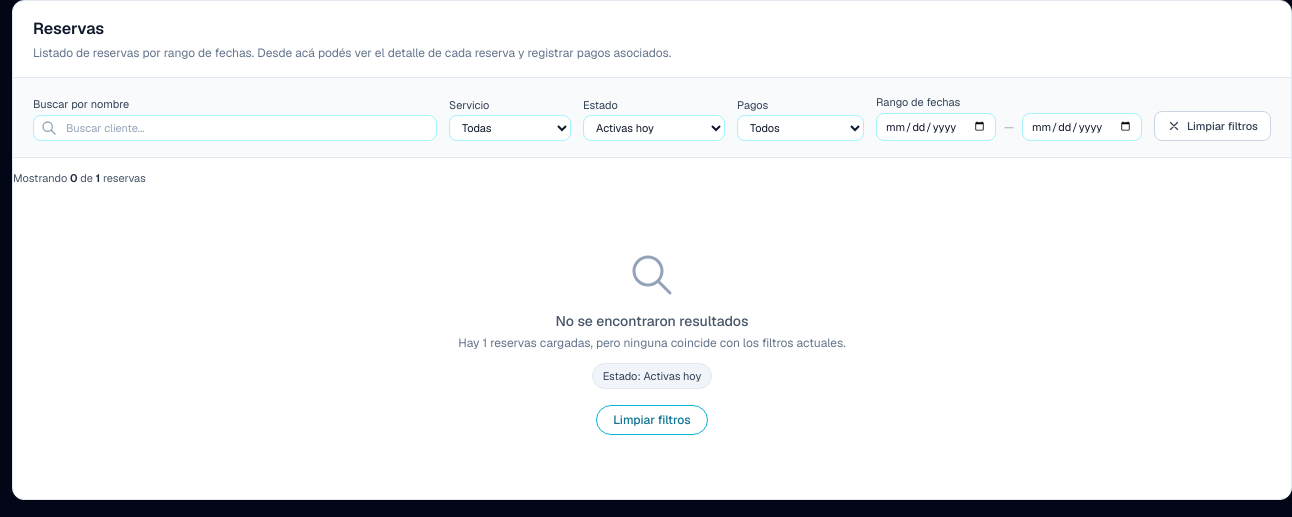
Test: ReservasSection: estado vacio por filtros › el boton del estado vacio limpia los filtros y tambien la busqueda local
Type "Zzz" into the field with placeholder "Buscar cliente...". click: [235, 128]
box: [33,114,437,141]
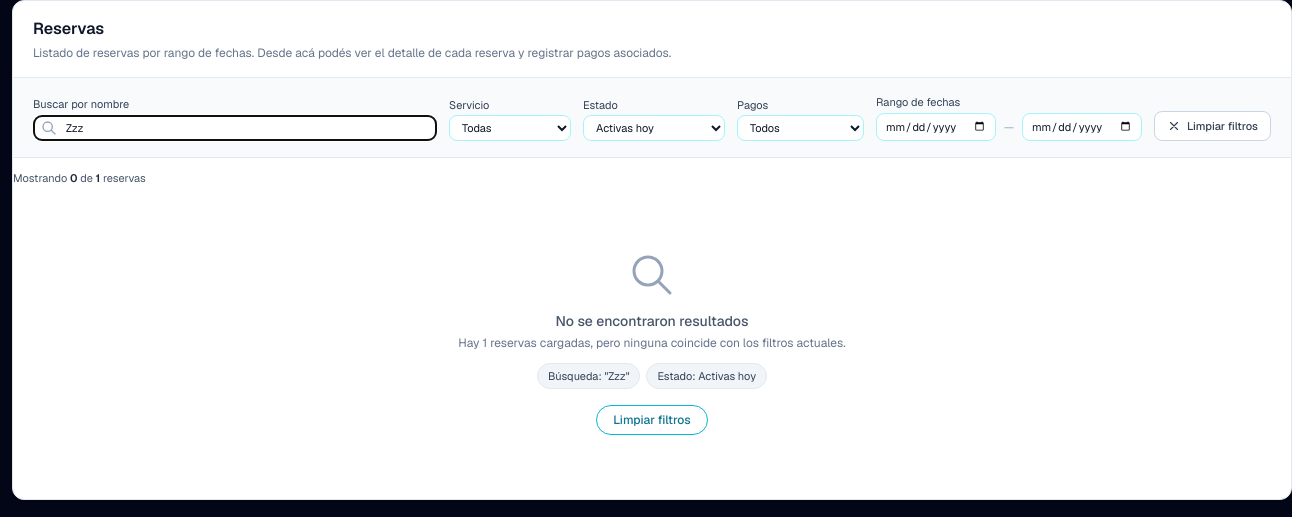
# El segundo "Limpiar filtros" es el del estado vacio (el primero es el de la barra).
Click the button "Limpiar filtros" below "Búsqueda: \"Zzz\"". click: [652, 420]
box: [596,405,708,435]
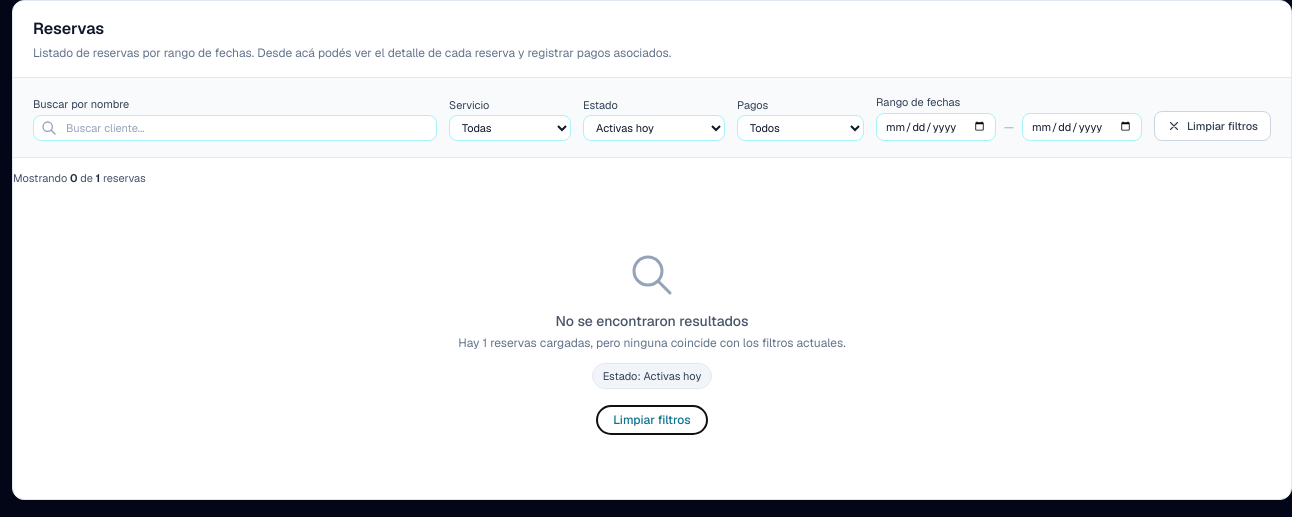
Expected: the field with placeholder "Buscar cliente..." is empty, [33,114,437,141]
